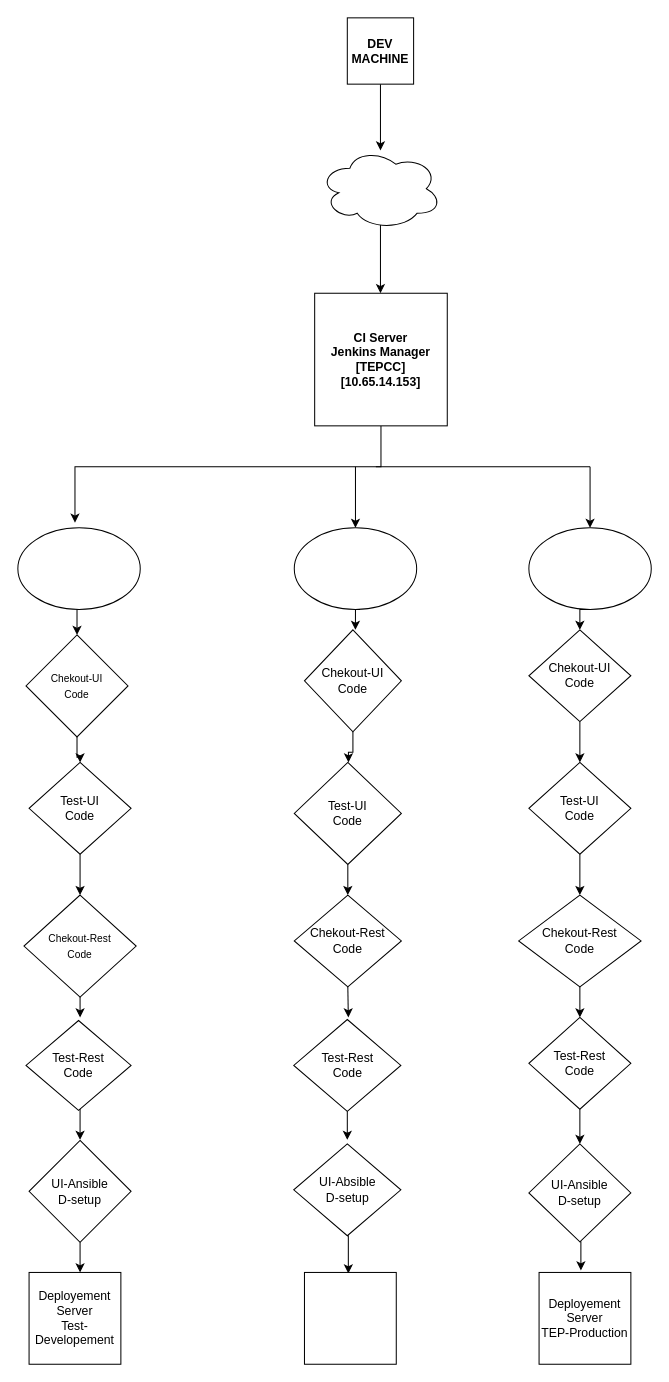
Some shapes in this 669 by 1382 pixel diagram are drawn without their labels. The centre of each missing label's shape, as x and y in pixels:
Deployement server TEP-UAT: (349,1317)
gitSCM: (380,188)
TEP-Developement: (78,568)
TEP-Productiom: (589,568)
TEP-UAT: (355,568)
